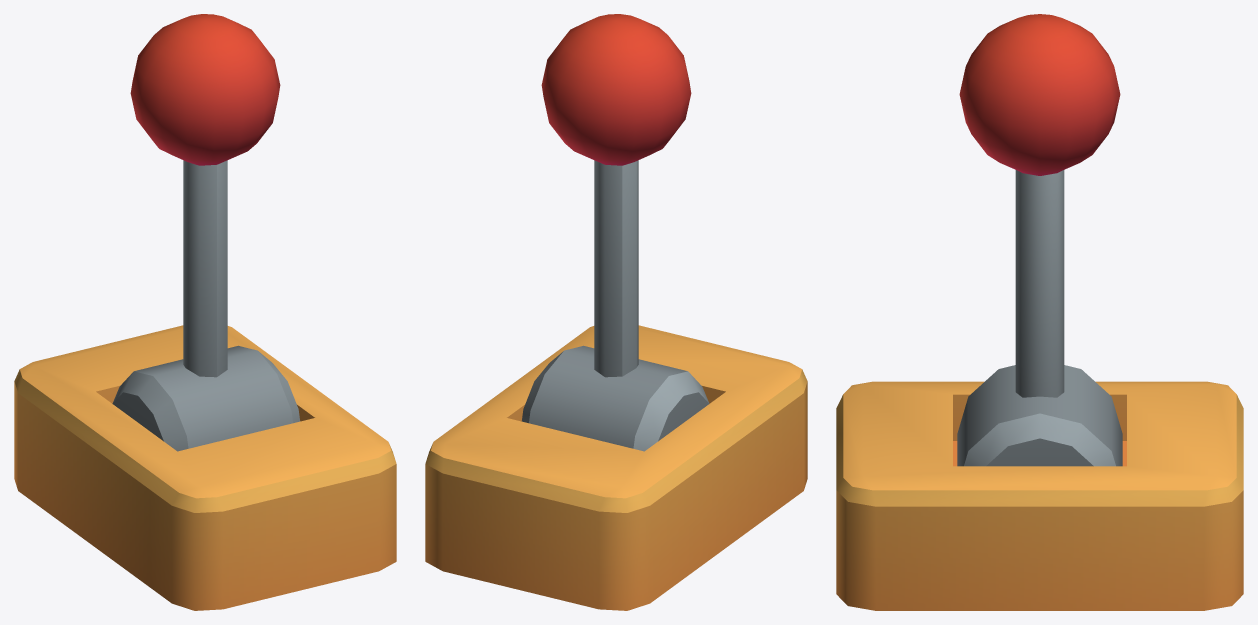
File: kaykit_lever_floor_base_yellow.glb
3 views of the same model, side by side, from view 1: azimuth 30°, elevation 25°; view 2: azimuth 150°, elevation 25°; view 3: azimuth 270°, elevation 25° (orthographic). The views are drawn at different scales.
Visible parts, largest first — view 1: lever_floor_base_yellow_visual, lever_floor_yellow_visual; view 2: lever_floor_base_yellow_visual, lever_floor_yellow_visual; view 3: lever_floor_base_yellow_visual, lever_floor_yellow_visual.
Part boxes in pixels (bbox=[...]): lever_floor_base_yellow_visual: bbox=[14, 325, 396, 610]; lever_floor_yellow_visual: bbox=[112, 14, 300, 451]; lever_floor_base_yellow_visual: bbox=[425, 325, 807, 610]; lever_floor_yellow_visual: bbox=[521, 14, 709, 451]; lever_floor_base_yellow_visual: bbox=[836, 381, 1243, 610]; lever_floor_yellow_visual: bbox=[957, 14, 1122, 466].
Size of what is drawn, in the model's own units: 0.8 by 1.73 by 1.2.
Materials: 1 (1 with a texture image).
